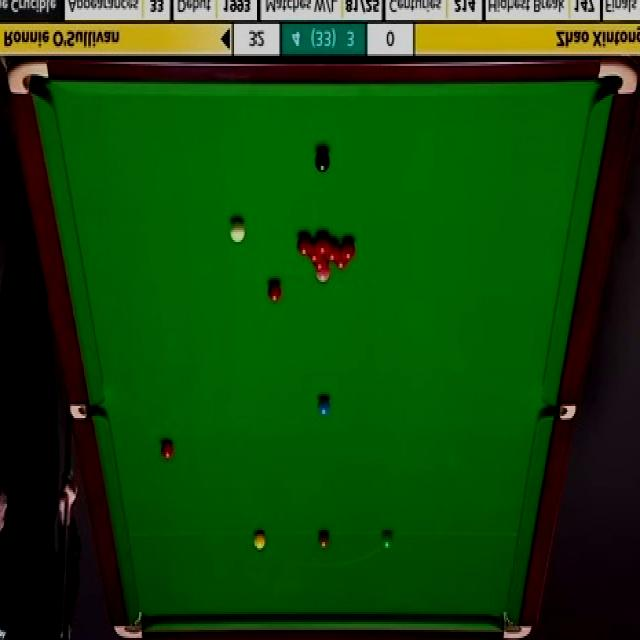pocket: (596, 57, 638, 97), (7, 60, 49, 97), (109, 606, 145, 640), (499, 608, 530, 640), (539, 402, 576, 422), (67, 405, 105, 420)
